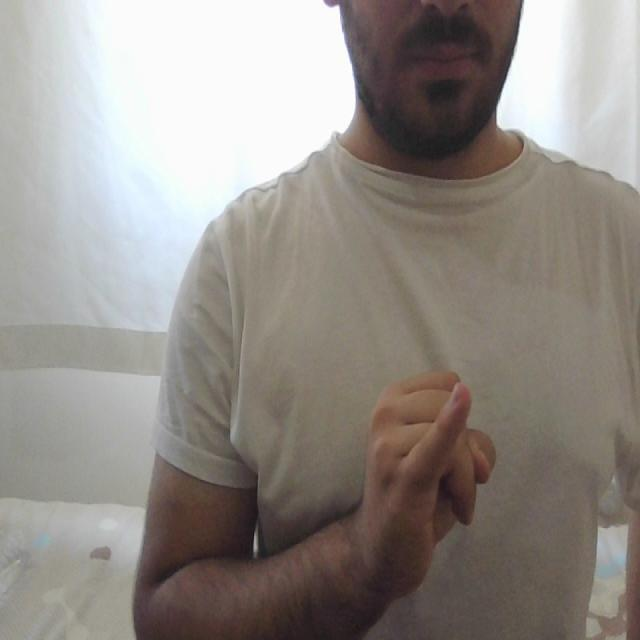kotu: (358, 353, 502, 546)
